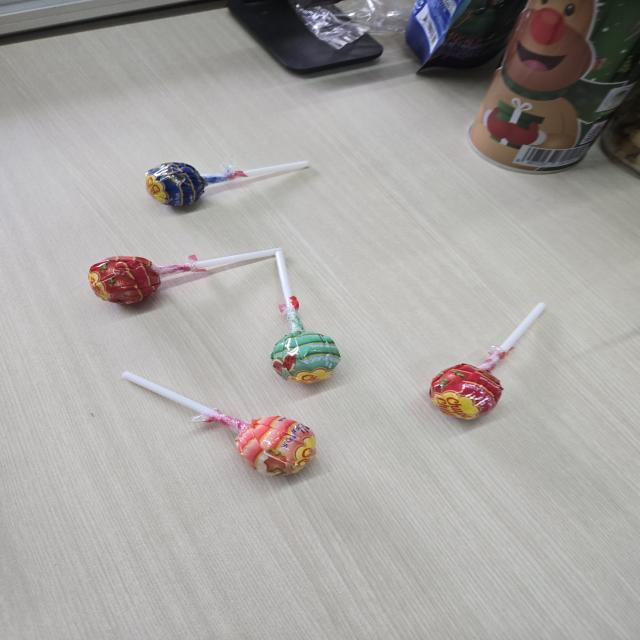lollipop: (116, 363, 321, 485), (427, 296, 550, 427), (87, 240, 286, 310), (269, 248, 344, 391), (143, 157, 311, 213)
